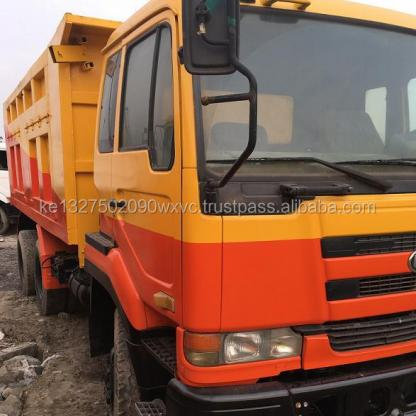dump_truck: (12, 2, 416, 413)
